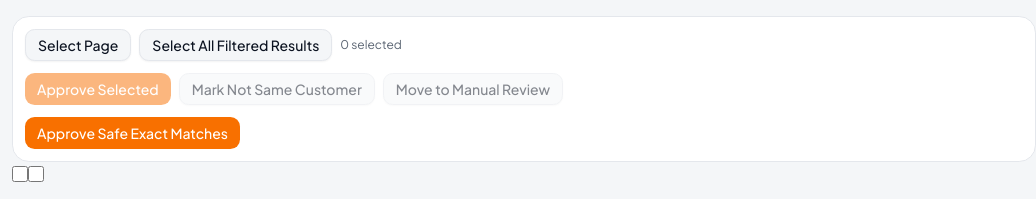
Test: QuickBooks review selection › selects the visible page and supports deselection
This screenshot has width=1036, height=199.
What coordinates should you click on to do the following:
click the button "Select Page"
I would click on:
 (78, 45)
Its box is [25,29,131,61].
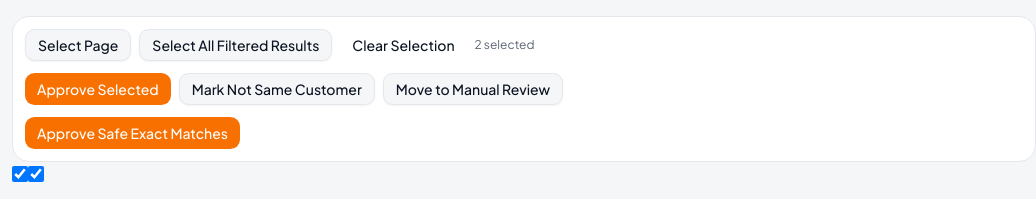
Result: the text "2 selected" is shown at [475,37,534,53]
Result: the 1st checkbox named "Select review record" is checked
What coordinates should you click on to do the following:
click the 1st checkbox named "Select review record"
I would click on:
 (20, 174)
Its box is [12,166,28,182].
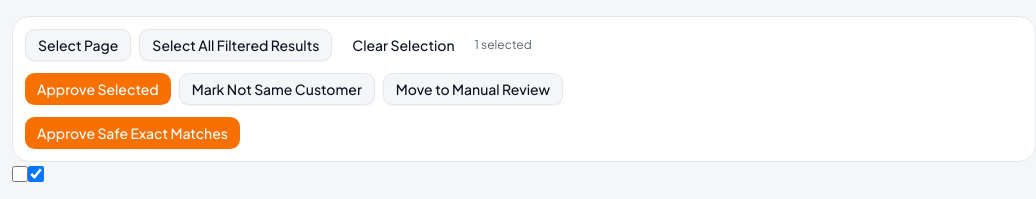
Result: the text "1 selected" is shown at [475,37,532,53]
